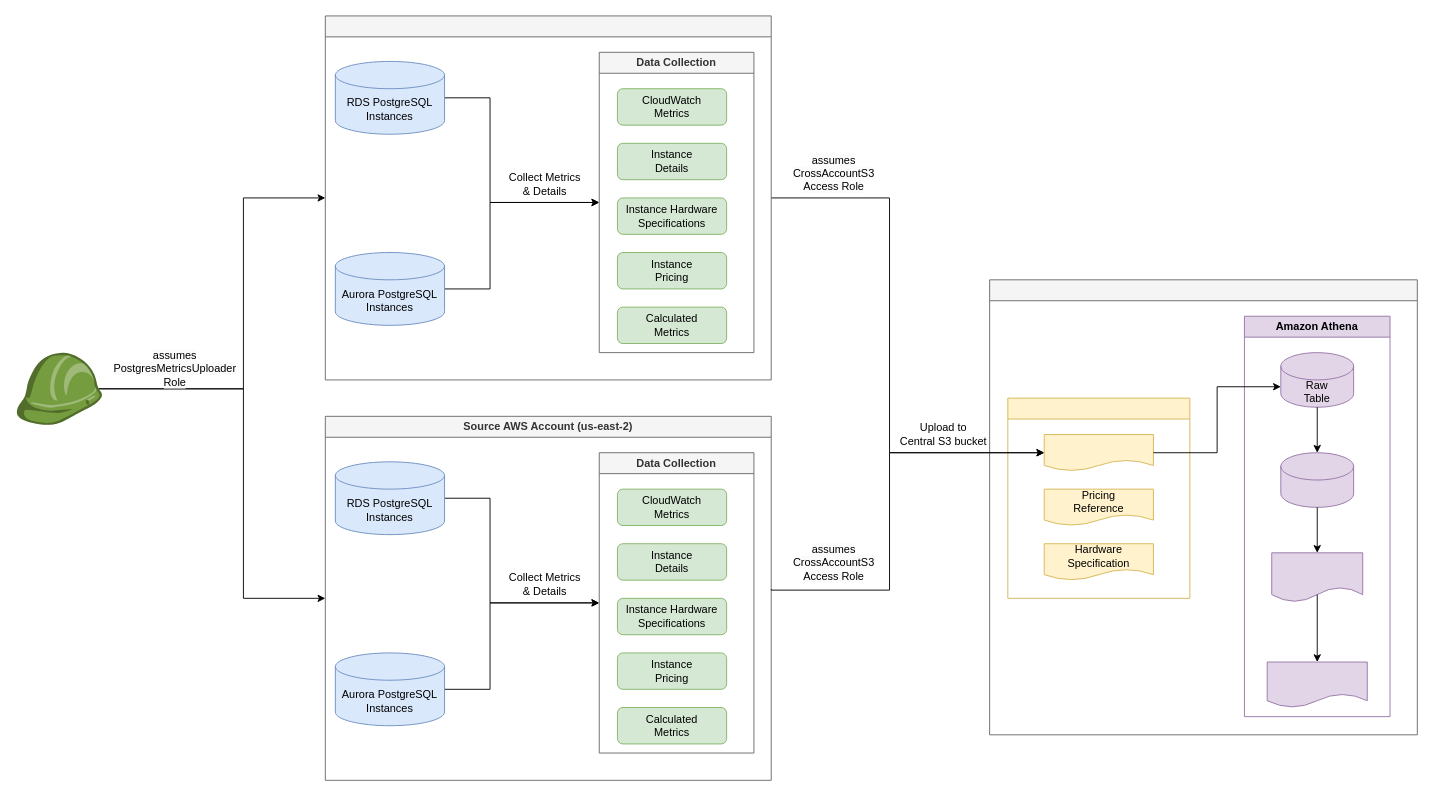
Some shapes in this 1433 by 796 pixel diagram are drawn without their labels. Each missing label, with the box of its shape:
Central AWS Account (us-east-1): (989, 279, 1417, 735)
IAM Role/User: (15, 352, 102, 425)
Iceberg Table: (1280, 452, 1354, 507)
Latest Run View: (1271, 552, 1363, 602)
Migration Guidance View: (1266, 661, 1367, 708)
Raw Metrics (CSV): (1043, 434, 1153, 471)
S3 Bucket: (1007, 397, 1190, 598)
Source AWS Account (us-east-1): (324, 15, 771, 380)
